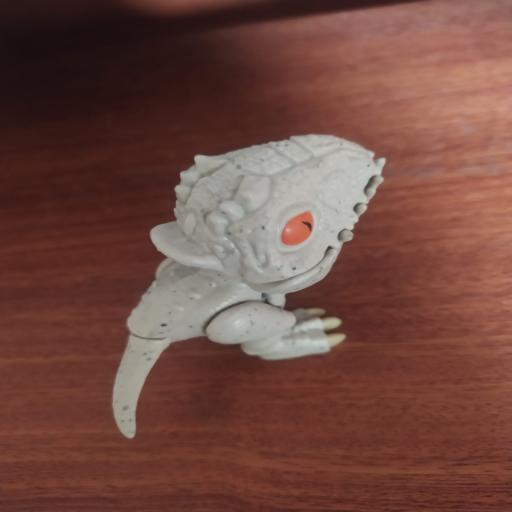Dinosaurio: (90, 125, 403, 452)
